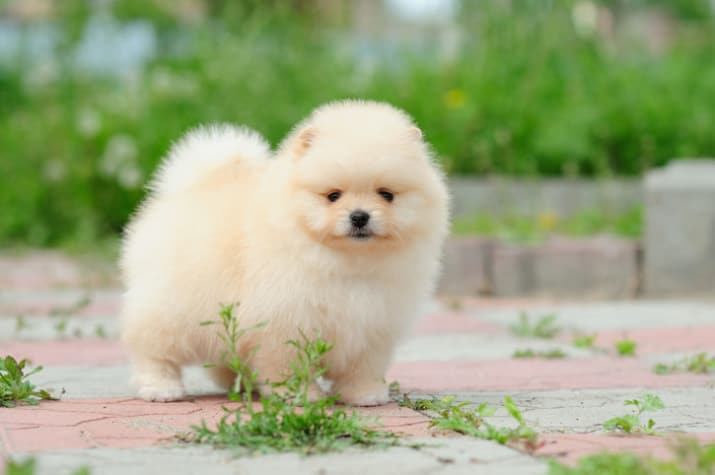pomeranian: (114, 94, 456, 433)
